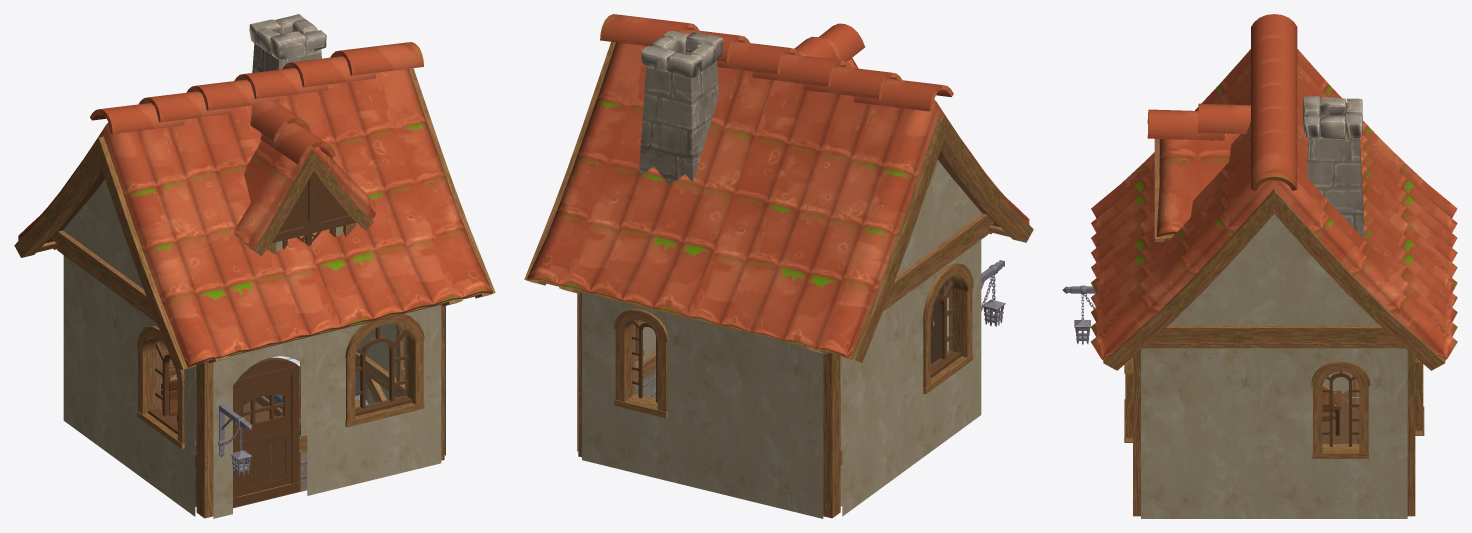
The model's file is House_Plaster.glb.
3 renders of one model, left to right at view 1: azimuth 30°, elevation 25°; view 2: azimuth 150°, elevation 25°; view 3: azimuth 270°, elevation 25°, orthographic. The views are drawn at different scales.
Parts seen in each view (by area): view 1: Casa1_RoofTiles, Roof_Dormer_RoundTile, Wall_Plaster_Straight.011, Wall_Plaster_Window_Wide_Round, Wall_Plaster_Door_Round, Door_1_Round.007, Wall_Plaster_Window_Wide_Round.010, Window_Wide_Round1, Roof_Front_Brick4.008, Window_Wide_Round1.012, Prop_Chimney.001, Corner_Exterior_Wood.015 (+3 smaller); view 2: Casa1_RoofTiles, Wall_Plaster_Straight, Wall_Plaster_Window_Thin_Round, Wall_Plaster_Straight.011, Prop_Chimney.001, Wall_Plaster_Window_Wide_Round.010, Roof_Front_Brick4.008, Window_Wide_Round1.012, Window_Thin_Round1, Corner_Exterior_Wood.017, Roof_Dormer_RoundTile, Wall_Plaster_Window_Thin_Round.002 (+3 smaller); view 3: Casa1_RoofTiles, Wall_Plaster_Straight.016, Wall_Plaster_Window_Thin_Round.002, Roof_Front_Brick4.009, Roof_Dormer_RoundTile, Prop_Chimney.001, Window_Thin_Round1.037, Corner_Exterior_Wood.018, Corner_Exterior_Wood.016, Floor_WoodDark.054, Window_Wide_Round1, Window_Thin_Round1 (+3 smaller).
Part boxes in pixels (bbox=[...]): Casa1_RoofTiles: bbox=[14, 42, 495, 371]; Roof_Dormer_RoundTile: bbox=[234, 100, 375, 255]; Wall_Plaster_Straight.011: bbox=[57, 244, 129, 468]; Wall_Plaster_Window_Wide_Round: bbox=[327, 305, 441, 490]; Wall_Plaster_Door_Round: bbox=[213, 332, 327, 518]; Door_1_Round.007: bbox=[233, 357, 299, 507]; Wall_Plaster_Window_Wide_Round.010: bbox=[123, 292, 196, 516]; Window_Wide_Round1: bbox=[345, 314, 424, 427]; Roof_Front_Brick4.008: bbox=[51, 179, 152, 313]; Window_Wide_Round1.012: bbox=[137, 325, 195, 448]; Prop_Chimney.001: bbox=[249, 14, 326, 72]; Corner_Exterior_Wood.015: bbox=[196, 362, 213, 518]; Casa1_RoofTiles: bbox=[524, 14, 1033, 362]; Wall_Plaster_Straight: bbox=[702, 322, 823, 518]; Wall_Plaster_Window_Thin_Round: bbox=[582, 292, 702, 489]; Wall_Plaster_Straight.011: bbox=[840, 279, 918, 516]; Prop_Chimney.001: bbox=[639, 31, 723, 184]; Wall_Plaster_Window_Wide_Round.010: bbox=[912, 228, 988, 465]; Roof_Front_Brick4.008: bbox=[887, 159, 993, 301]; Window_Wide_Round1.012: bbox=[923, 263, 973, 394]; Window_Thin_Round1: bbox=[613, 308, 668, 417]; Corner_Exterior_Wood.017: bbox=[823, 352, 840, 518]; Roof_Dormer_RoundTile: bbox=[795, 23, 864, 68]; Wall_Plaster_Window_Thin_Round.002: bbox=[577, 293, 655, 451]; Casa1_RoofTiles: bbox=[1091, 14, 1457, 370]; Wall_Plaster_Straight.016: bbox=[1141, 340, 1274, 518]; Wall_Plaster_Window_Thin_Round.002: bbox=[1274, 340, 1407, 518]; Roof_Front_Brick4.009: bbox=[1152, 214, 1396, 340]; Roof_Dormer_RoundTile: bbox=[1147, 103, 1250, 241]; Prop_Chimney.001: bbox=[1302, 96, 1363, 238]; Window_Thin_Round1.037: bbox=[1311, 361, 1370, 458]; Corner_Exterior_Wood.018: bbox=[1407, 350, 1415, 516]; Corner_Exterior_Wood.016: bbox=[1133, 350, 1140, 516]; Floor_WoodDark.054: bbox=[1322, 402, 1358, 443]; Window_Wide_Round1: bbox=[1124, 357, 1132, 442]; Window_Thin_Round1: bbox=[1415, 357, 1424, 435].
Bounding box in the file's own units: 5.56 × 6.32 × 5.94.
40 materials, 36 textured.
